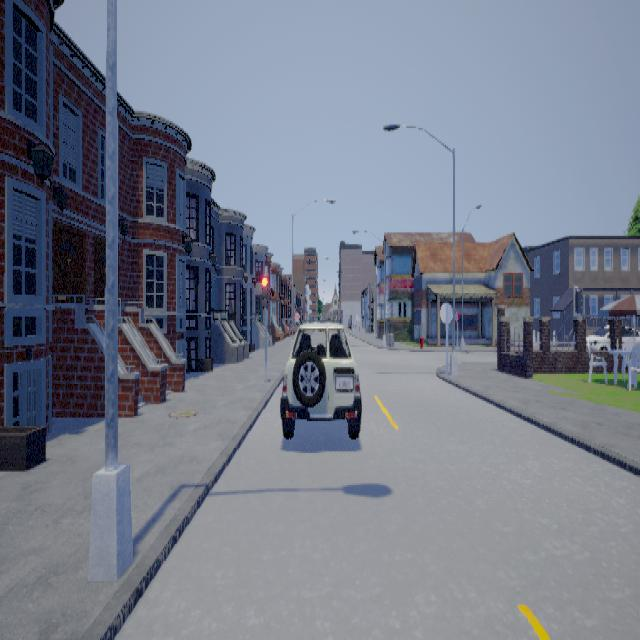red_light: (263, 268, 270, 313)
vehicle: (281, 313, 363, 438)
